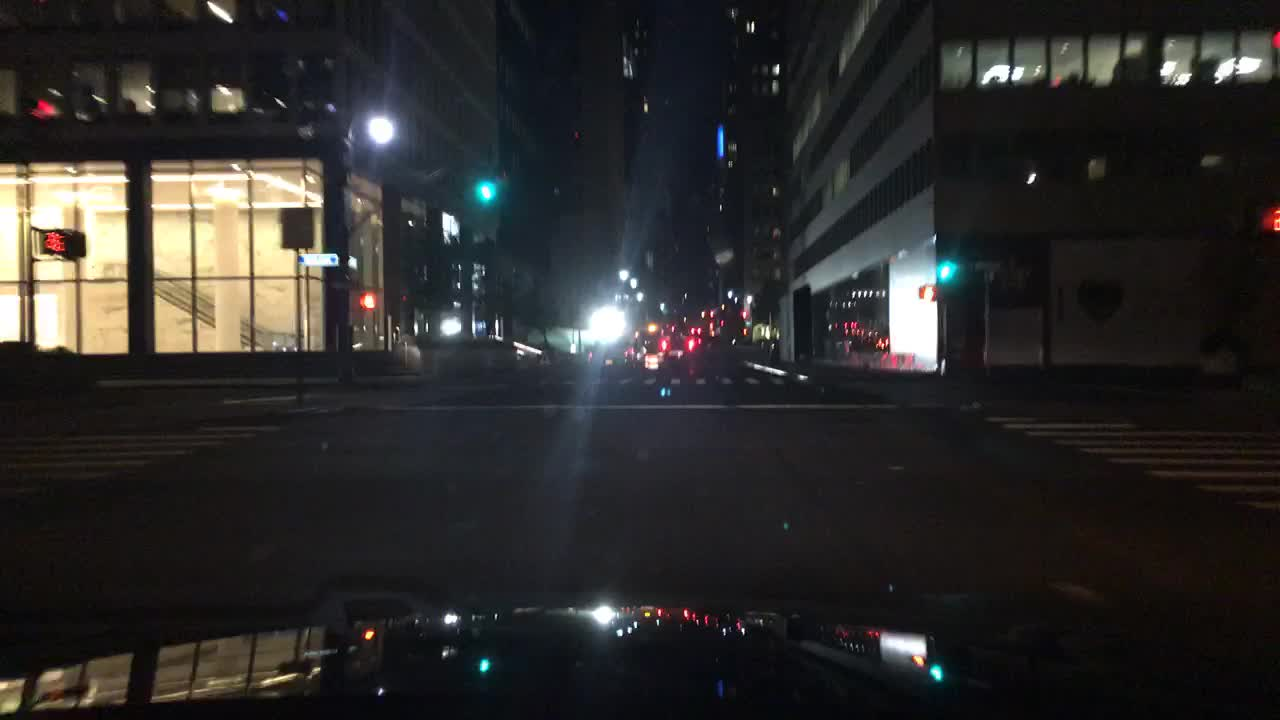car: (622, 321, 702, 376)
traffic light: (38, 232, 84, 259), (28, 91, 62, 126), (360, 291, 380, 312), (1264, 204, 1278, 232), (936, 262, 952, 281), (917, 285, 936, 299)
traffic sign: (276, 210, 311, 247), (298, 253, 339, 269), (971, 260, 1001, 272)
